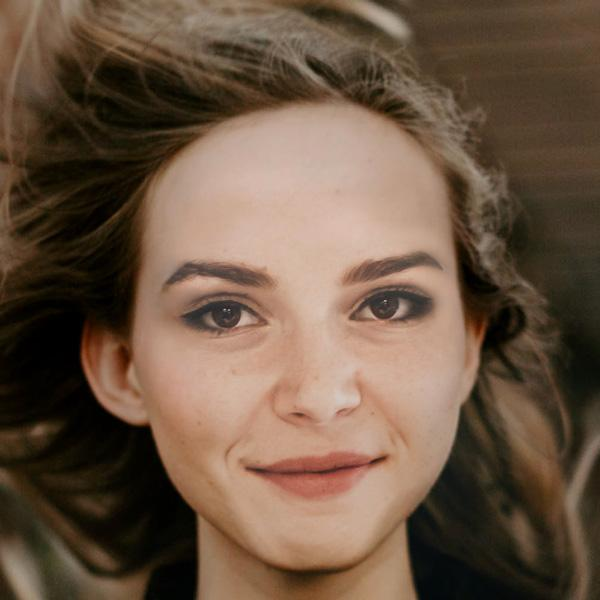Eyes: (175, 284, 275, 351), (339, 279, 435, 335)
